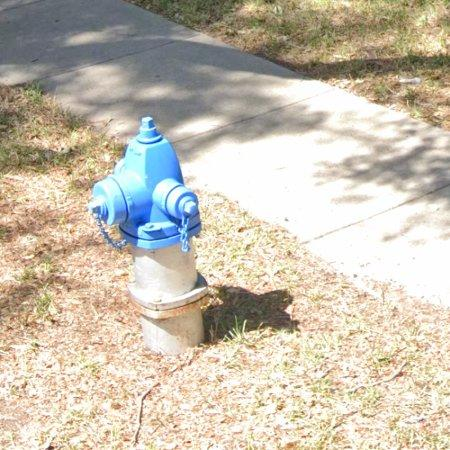a fire hydrant: (88, 117, 209, 356)
